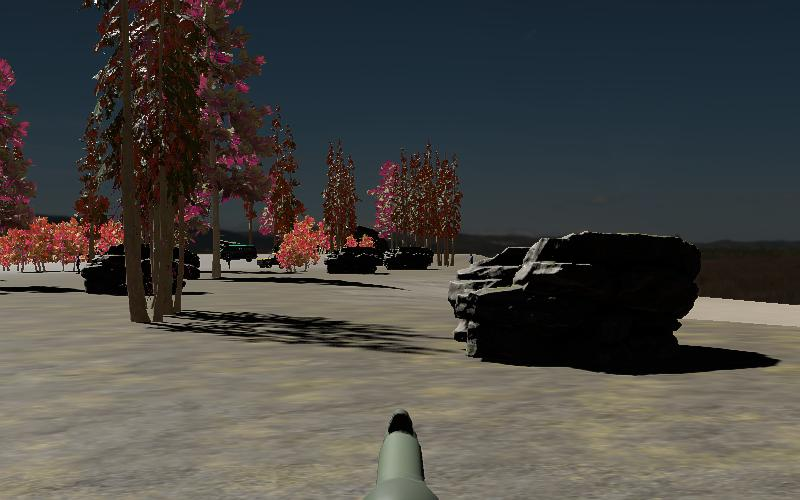car: (219, 240, 258, 262)
